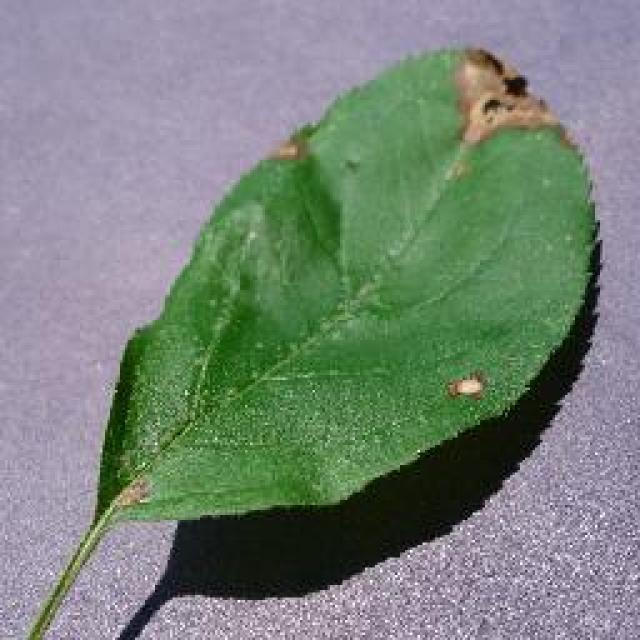Apple___Black_rot: (94, 44, 599, 531)
